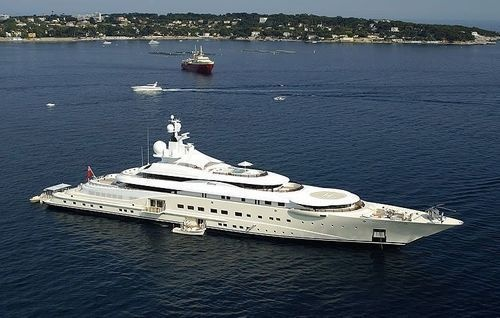Cargoship: (180, 42, 216, 73)
otherboat: (169, 217, 211, 238)
yacht: (29, 129, 465, 245)
